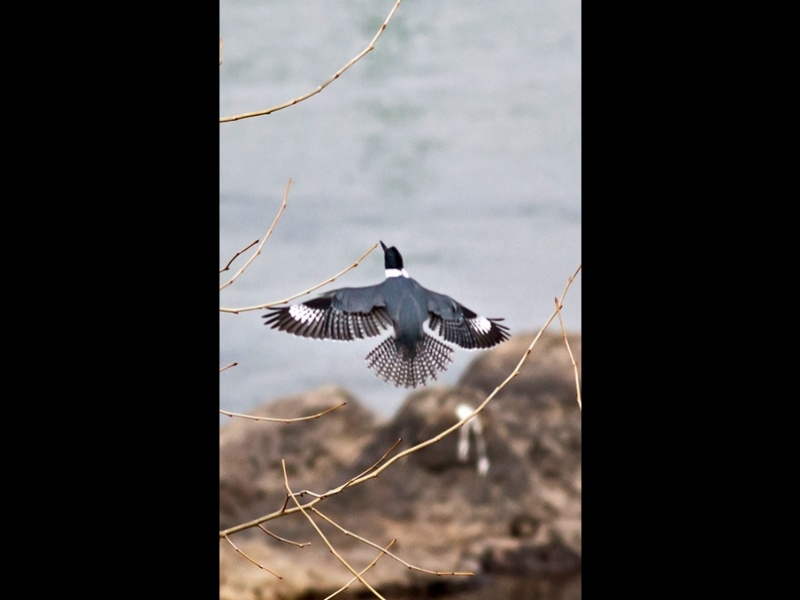kingfisher: (259, 237, 514, 391)
